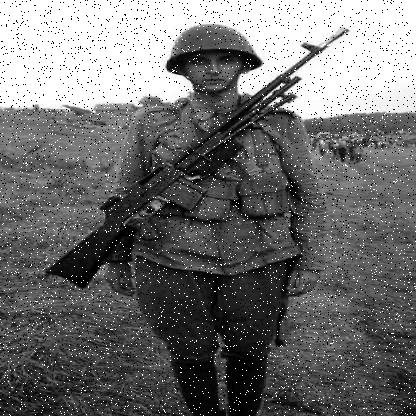rifle: (46, 12, 361, 290)
